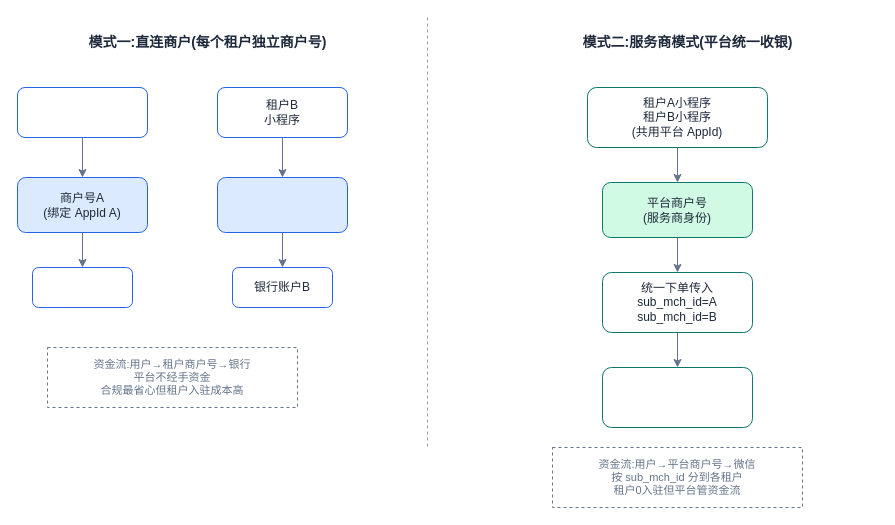
The diagram is 895 pixels wide and 525 high, and some of its shapes have lost their labels. The shapes that lost their labels are listed below. From the top down, each one's centre as x and y in pixels, then its label:
(82,112): 租户A 小程序
(282,204): 商户号B (绑定 AppId B)
(82,287): 银行账户A
(677,397): 微信结算系统 按 sub_mch_id 分到各租户银行账户
